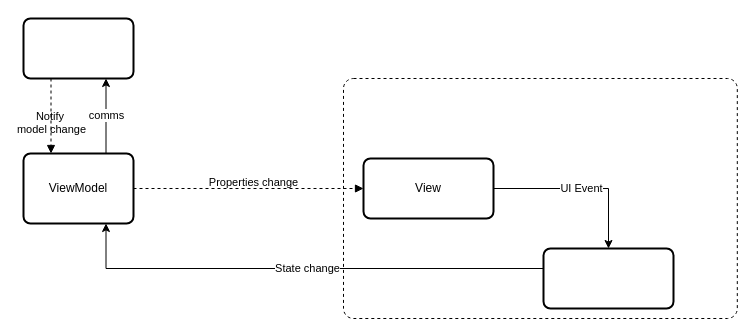
Image size: 756x336. Some labels were removed from this diagram. The centre of each missing label's shape, as x and y in pixels:
Model: pixel 78 48
View Controller: pixel 608 278
